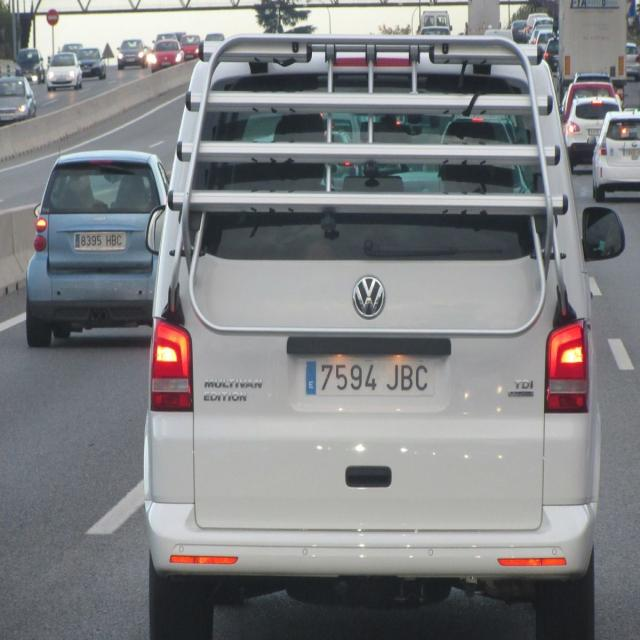license_plate-34Td: (306, 356, 439, 397)
